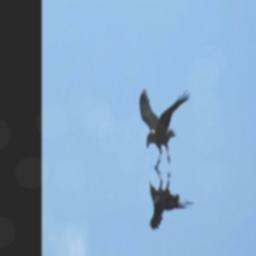Crow: (139, 87, 192, 171)
